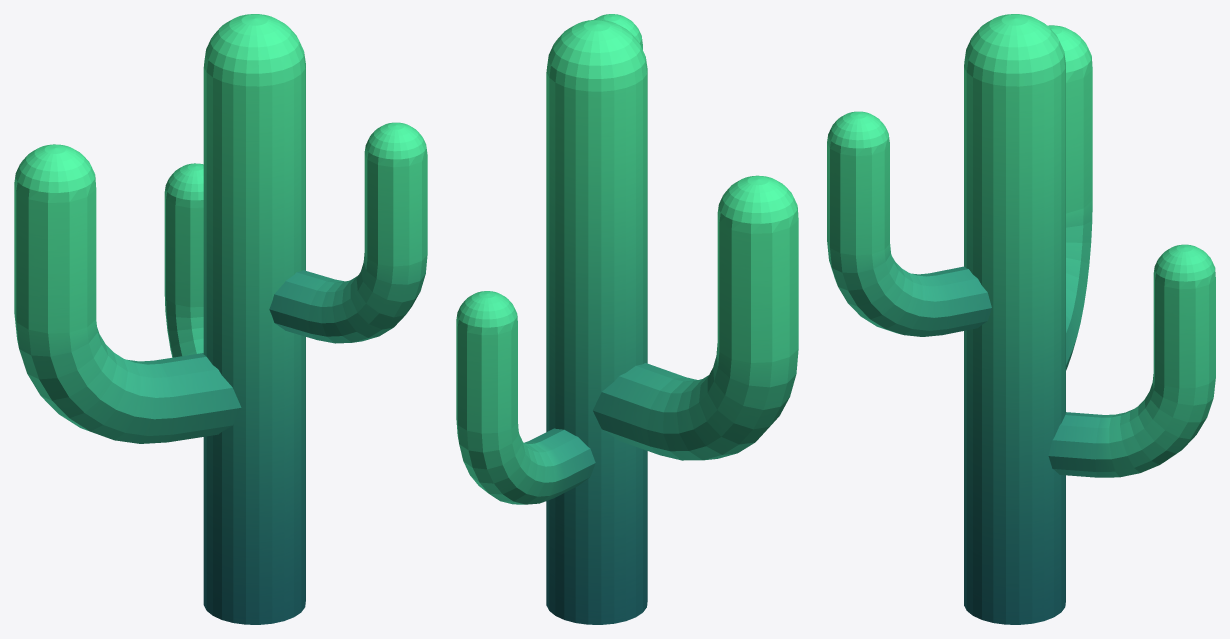
The model's file is cactus1.fbx.
3 renders of one model, left to right at view 1: azimuth 30°, elevation 25°; view 2: azimuth 150°, elevation 25°; view 3: azimuth 270°, elevation 25°, orthographic.
Visible parts, largest first — view 1: cactus1; view 2: cactus1; view 3: cactus1.
Boxes of the visible parts, x1,y1,x2,y2 form: cactus1: [14, 14, 427, 624]; cactus1: [456, 14, 798, 624]; cactus1: [827, 14, 1215, 624].
Bounding box in the file's own units: 102 × 186 × 112.
